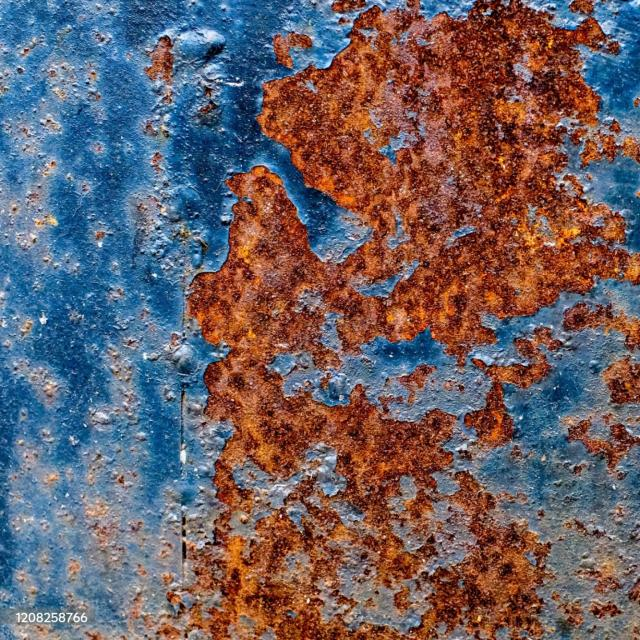Pitting Corrosion: (167, 0, 639, 639)
